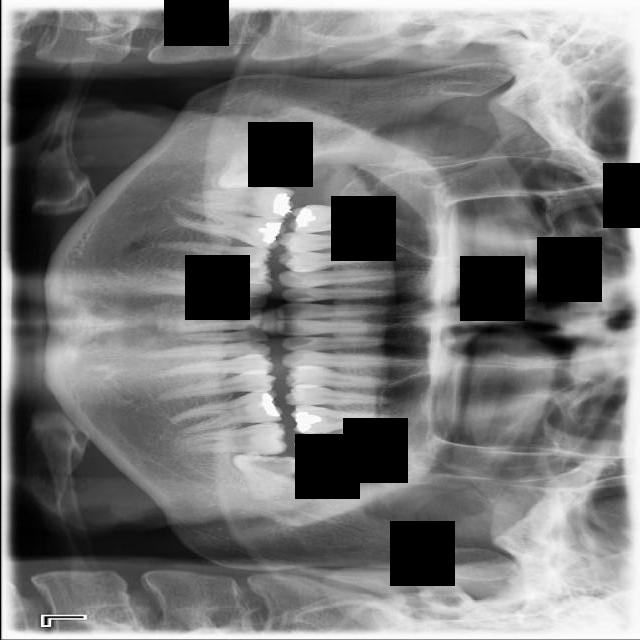52: (230, 385, 285, 433), (231, 212, 287, 251), (245, 184, 296, 221), (292, 433, 343, 464), (288, 204, 335, 234), (290, 405, 334, 434), (246, 454, 297, 479)
73: (323, 435, 406, 462), (14, 624, 30, 636)
BioHorizons Implant: (292, 433, 405, 466)
Biomet 3i Implant: (227, 449, 299, 506)
Blue Sky Bio Implant: (178, 420, 288, 456)
Implant: (184, 182, 294, 220)
Keystone Dental Implant: (213, 136, 290, 213)
